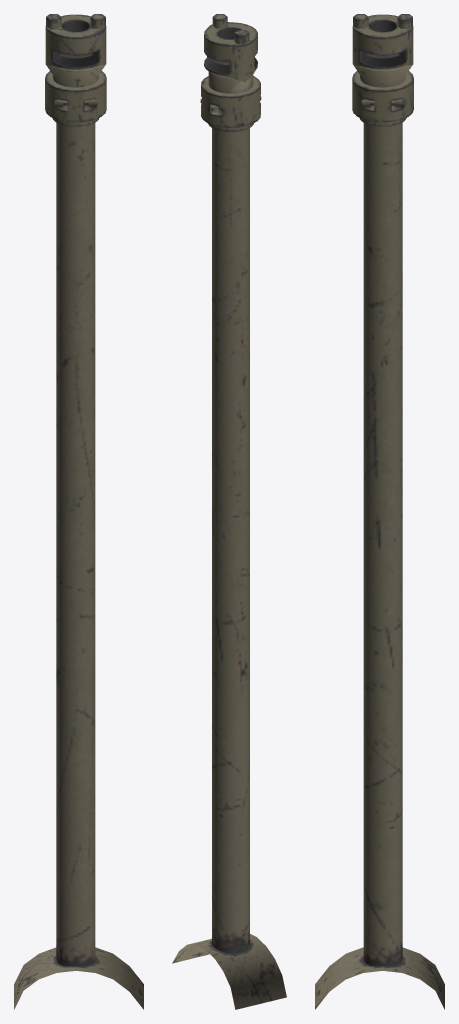
The model's file is Gun_06.glb.
3 views of the same model, side by side, from view 1: azimuth 90°, elevation 25°; view 2: azimuth 210°, elevation 25°; view 3: azimuth 270°, elevation 25° (orthographic). The views are drawn at different scales.
Parts seen in each view (by area): view 1: set_0_group_0; view 2: set_0_group_0; view 3: set_0_group_0.
Part boxes in pixels (bbox=[...]): set_0_group_0: bbox=[14, 14, 143, 1009]; set_0_group_0: bbox=[172, 14, 286, 1009]; set_0_group_0: bbox=[315, 14, 444, 1009].
Bounding box in the file's own units: 0.2285 × 4.05 × 0.486.
Materials: 1 (1 with a texture image).
